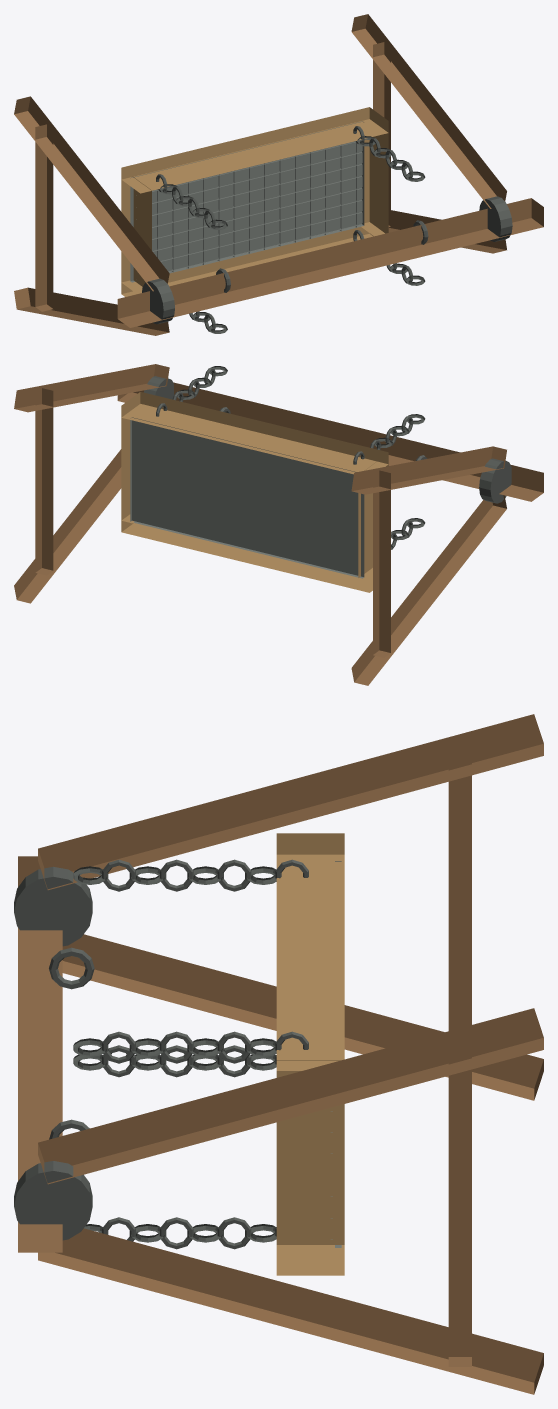
The model's file is sieve.glb.
3 views of the same model, one above another, from view 1: azimuth 30°, elevation 25°; view 2: azimuth 150°, elevation 25°; view 3: azimuth 270°, elevation 25° (orthographic). The views are drawn at different scales.
Parts seen in each view (by area): view 1: sieve_floor_mesh, main_crossbeam, tray_side_R, A_leg_-2.65_1.45, A_leg_2.65_1.45, crossbrace_-2.65, tray_side_L, A_leg_-2.65_-1.45, tray_end_B, tray_end_A, crossbrace_2.65, iron_collar_2.65 (+9 smaller); view 2: sieve_floor_mesh, tray_side_R, main_crossbeam, A_leg_-2.65_-1.45, A_leg_2.65_-1.45, crossbrace_2.65, A_leg_2.65_1.45, A_leg_-2.65_1.45, tray_side_L, crossbrace_-2.65, iron_collar_-2.65, tray_end_A (+2 smaller); view 3: A_leg_2.65_1.45, A_leg_-2.65_1.45, A_leg_2.65_-1.45, tray_side_R, A_leg_-2.65_-1.45, main_crossbeam, tray_end_B, crossbrace_2.65, crossbrace_-2.65, iron_collar_2.65, iron_collar_-2.65, tray_side_L (+1 smaller).
Part boxes in pixels (<box>): sieve_floor_mesh: <box>130,121,364,282</box>; main_crossbeam: <box>117,198,543,327</box>; tray_side_R: <box>121,107,388,193</box>; A_leg_-2.65_1.45: <box>14,96,169,291</box>; A_leg_2.65_1.45: <box>351,14,506,208</box>; crossbrace_-2.65: <box>35,124,53,311</box>; tray_side_L: <box>121,222,385,296</box>; A_leg_-2.65_-1.45: <box>14,287,169,335</box>; tray_end_B: <box>361,118,388,236</box>; tray_end_A: <box>121,177,151,293</box>; crossbrace_2.65: <box>373,42,390,226</box>; iron_collar_2.65: <box>479,196,512,241</box>; sieve_floor_mesh: <box>130,417,364,578</box>; tray_side_R: <box>121,392,388,474</box>; main_crossbeam: <box>117,382,543,501</box>; A_leg_-2.65_-1.45: <box>351,495,506,685</box>; A_leg_2.65_-1.45: <box>14,449,121,603</box>; crossbrace_2.65: <box>35,388,53,575</box>; A_leg_2.65_1.45: <box>14,364,169,412</box>; A_leg_-2.65_1.45: <box>351,446,506,494</box>; tray_side_L: <box>121,514,372,592</box>; crossbrace_-2.65: <box>373,470,390,657</box>; iron_collar_-2.65: <box>479,458,511,503</box>; tray_end_A: <box>358,461,388,581</box>; A_leg_2.65_1.45: <box>38,1008,543,1184</box>; A_leg_-2.65_1.45: <box>38,714,543,890</box>; A_leg_2.65_-1.45: <box>38,1228,543,1394</box>; tray_side_R: <box>276,833,344,1070</box>; A_leg_-2.65_-1.45: <box>62,934,543,1100</box>; main_crossbeam: <box>18,856,62,1252</box>; tray_end_B: <box>276,1060,344,1254</box>; crossbrace_2.65: <box>448,1036,471,1366</box>; crossbrace_-2.65: <box>448,742,471,1030</box>; iron_collar_2.65: <box>14,1161,92,1240</box>; iron_collar_-2.65: <box>14,866,92,946</box>; tray_side_L: <box>276,1255,344,1275</box>.
Size of the model in its own units: 6.5 by 3.15 by 4.04.
